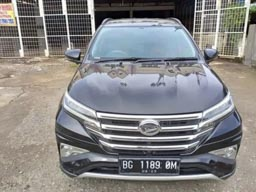plat: (118, 158, 179, 169)
